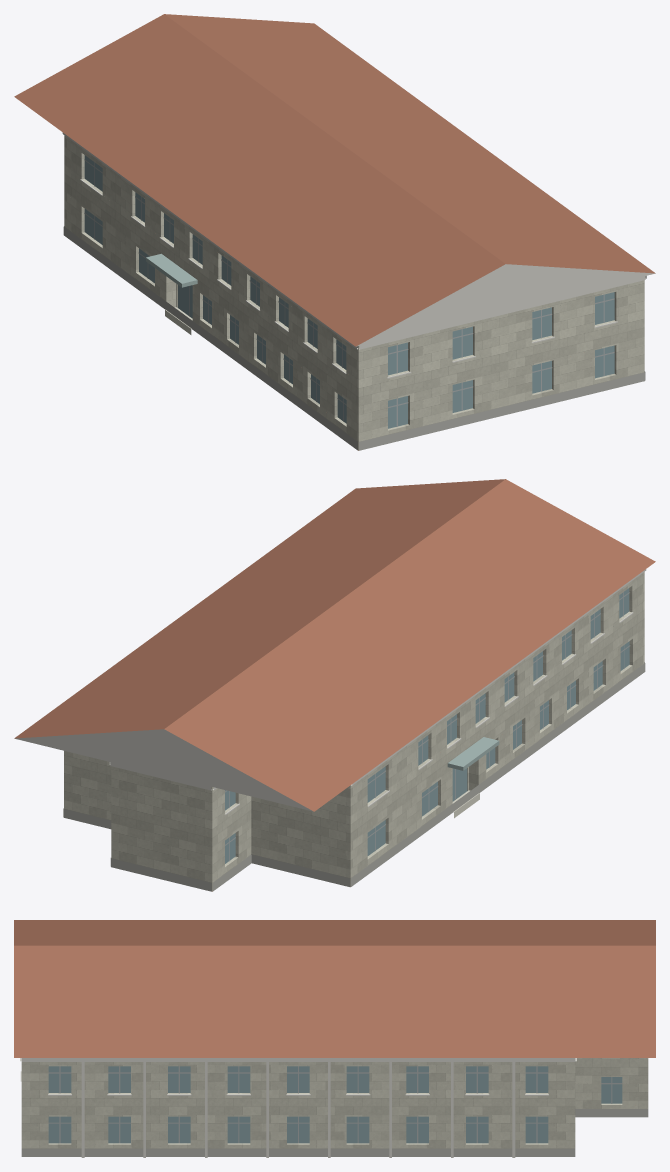
3 views of the same model, one above another, from view 1: azimuth 30°, elevation 25°; view 2: azimuth 150°, elevation 25°; view 3: azimuth 270°, elevation 25° (orthographic). The views are drawn at different scales.
Parts seen in each view (by area): view 1: haksong__roofAccent, haksong__wall, haksong__trim, haksong__glass, haksong__base, haksong__frame, haksong__canopy; view 2: haksong__roofAccent, haksong__wall, haksong__trim, haksong__base, haksong__glass, haksong__frame, haksong__canopy; view 3: haksong__roofAccent, haksong__wall, haksong__glass, haksong__base, haksong__trim, haksong__frame.
Boxes of the visible parts, x1,y1,x2,y2 form: haksong__roofAccent: [14, 14, 655, 346]; haksong__wall: [64, 135, 644, 450]; haksong__trim: [62, 132, 655, 378]; haksong__glass: [84, 155, 614, 428]; haksong__base: [63, 226, 645, 450]; haksong__frame: [84, 159, 614, 426]; haksong__canopy: [146, 253, 197, 287]; haksong__roofAccent: [14, 479, 655, 811]; haksong__wall: [64, 572, 644, 891]; haksong__trim: [15, 569, 646, 814]; haksong__base: [63, 662, 645, 891]; haksong__glass: [225, 588, 629, 863]; haksong__frame: [225, 592, 630, 861]; haksong__canopy: [447, 737, 499, 770]; haksong__roofAccent: [14, 920, 655, 1057]; haksong__wall: [21, 1058, 648, 1148]; haksong__glass: [48, 1066, 622, 1143]; haksong__base: [21, 1109, 648, 1156]; haksong__trim: [20, 1058, 576, 1157]; haksong__frame: [48, 1066, 622, 1143].
Bounding box in the file's own units: 21.78 × 10.82 × 41.73.
Materials: 10 (1 with a texture image).
